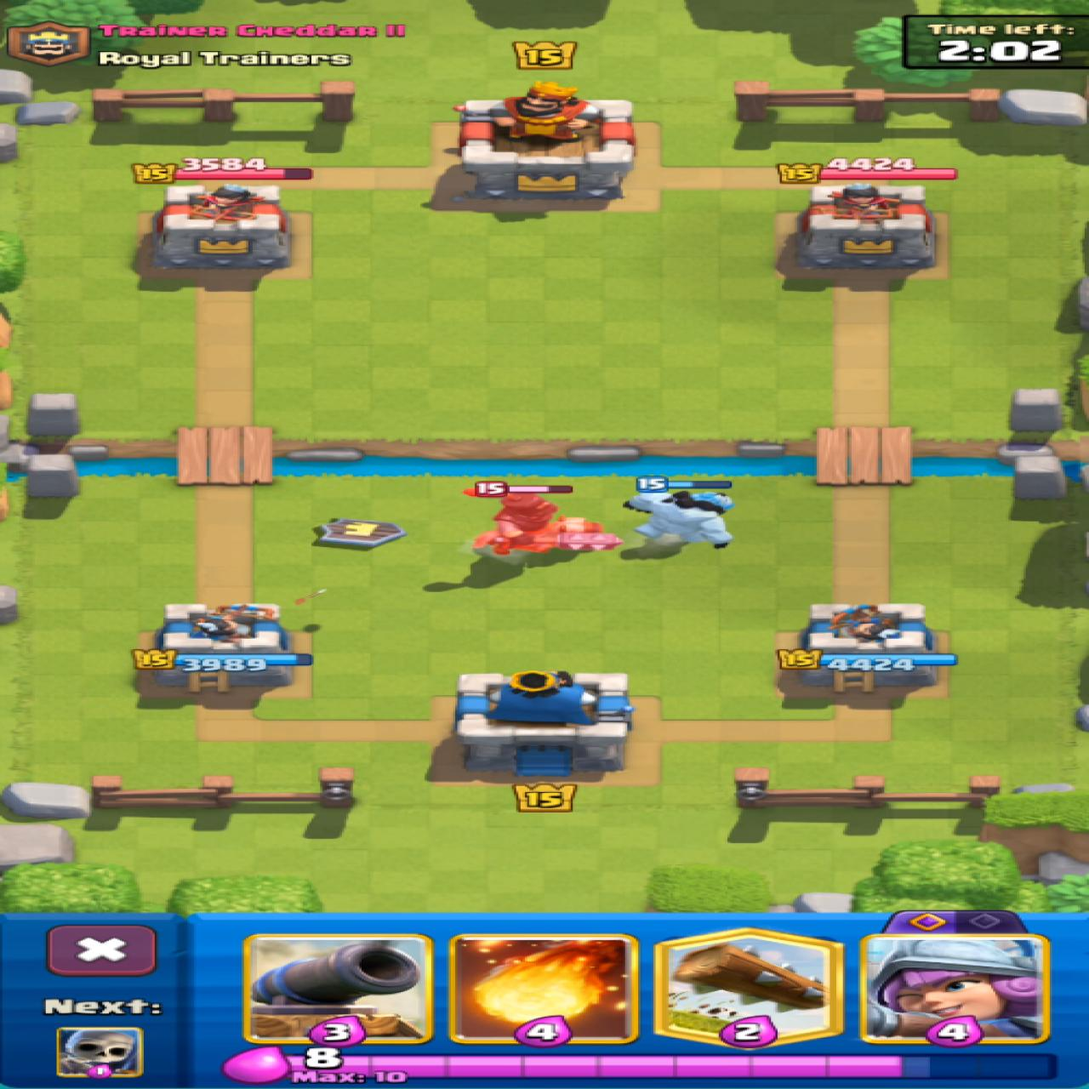Enemy-DarkPrince: (462, 482, 619, 556)
Enemy-KingTower: (457, 80, 634, 198)
Enemy-PrincessTower: (791, 184, 934, 276), (150, 185, 290, 275)
